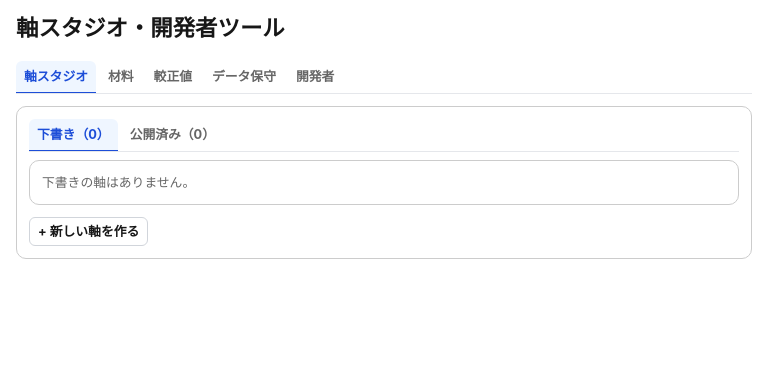
Test case: AdminPage › デバッグモード中だけ、ログの表示はトップページで行うと案内する
This screenshot has width=769, height=370.
Step 1. Click the tab "開発者" → click(315, 77), box [288,61,342,94]
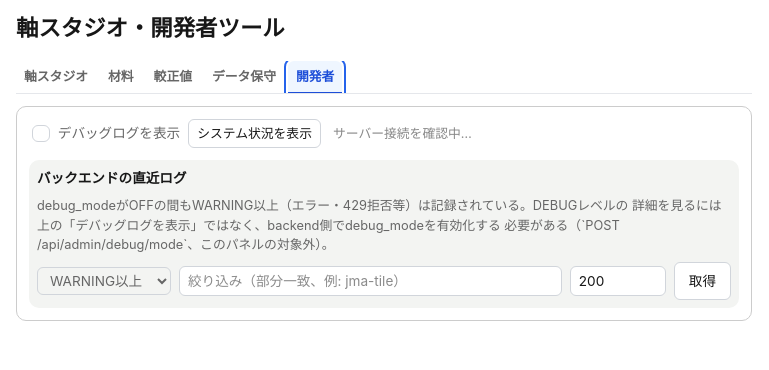
Step 2. Click the checkbox named "デバッグログを表示" → click(41, 133), box [29,121,53,145]
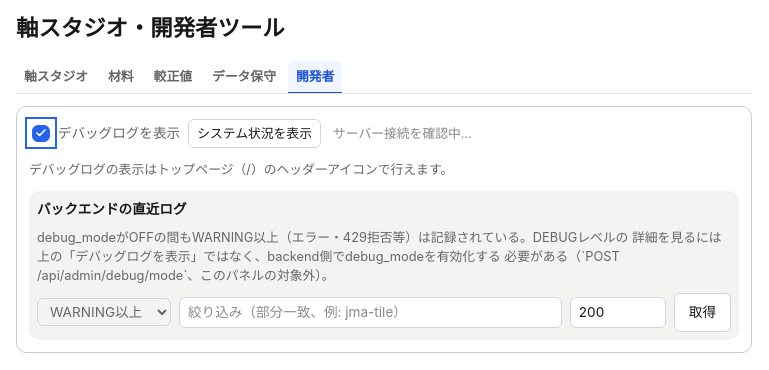
Now the text "デバッグログの表示はトップページ（/）のヘッダーアイコンで行えます。" is shown, box [29,162,453,177]
Step 3. Click the checkbox named "デバッグログを表示" → click(41, 133), box [29,121,53,145]
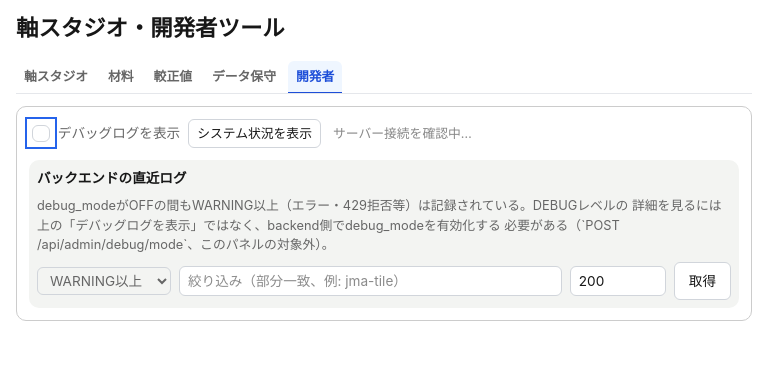
Now the text "トップページ" is gone
